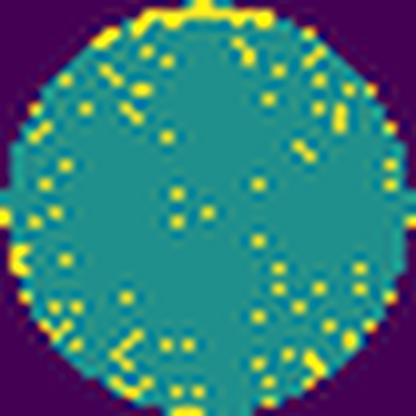Edge-Loc: (127, 0, 277, 41)
